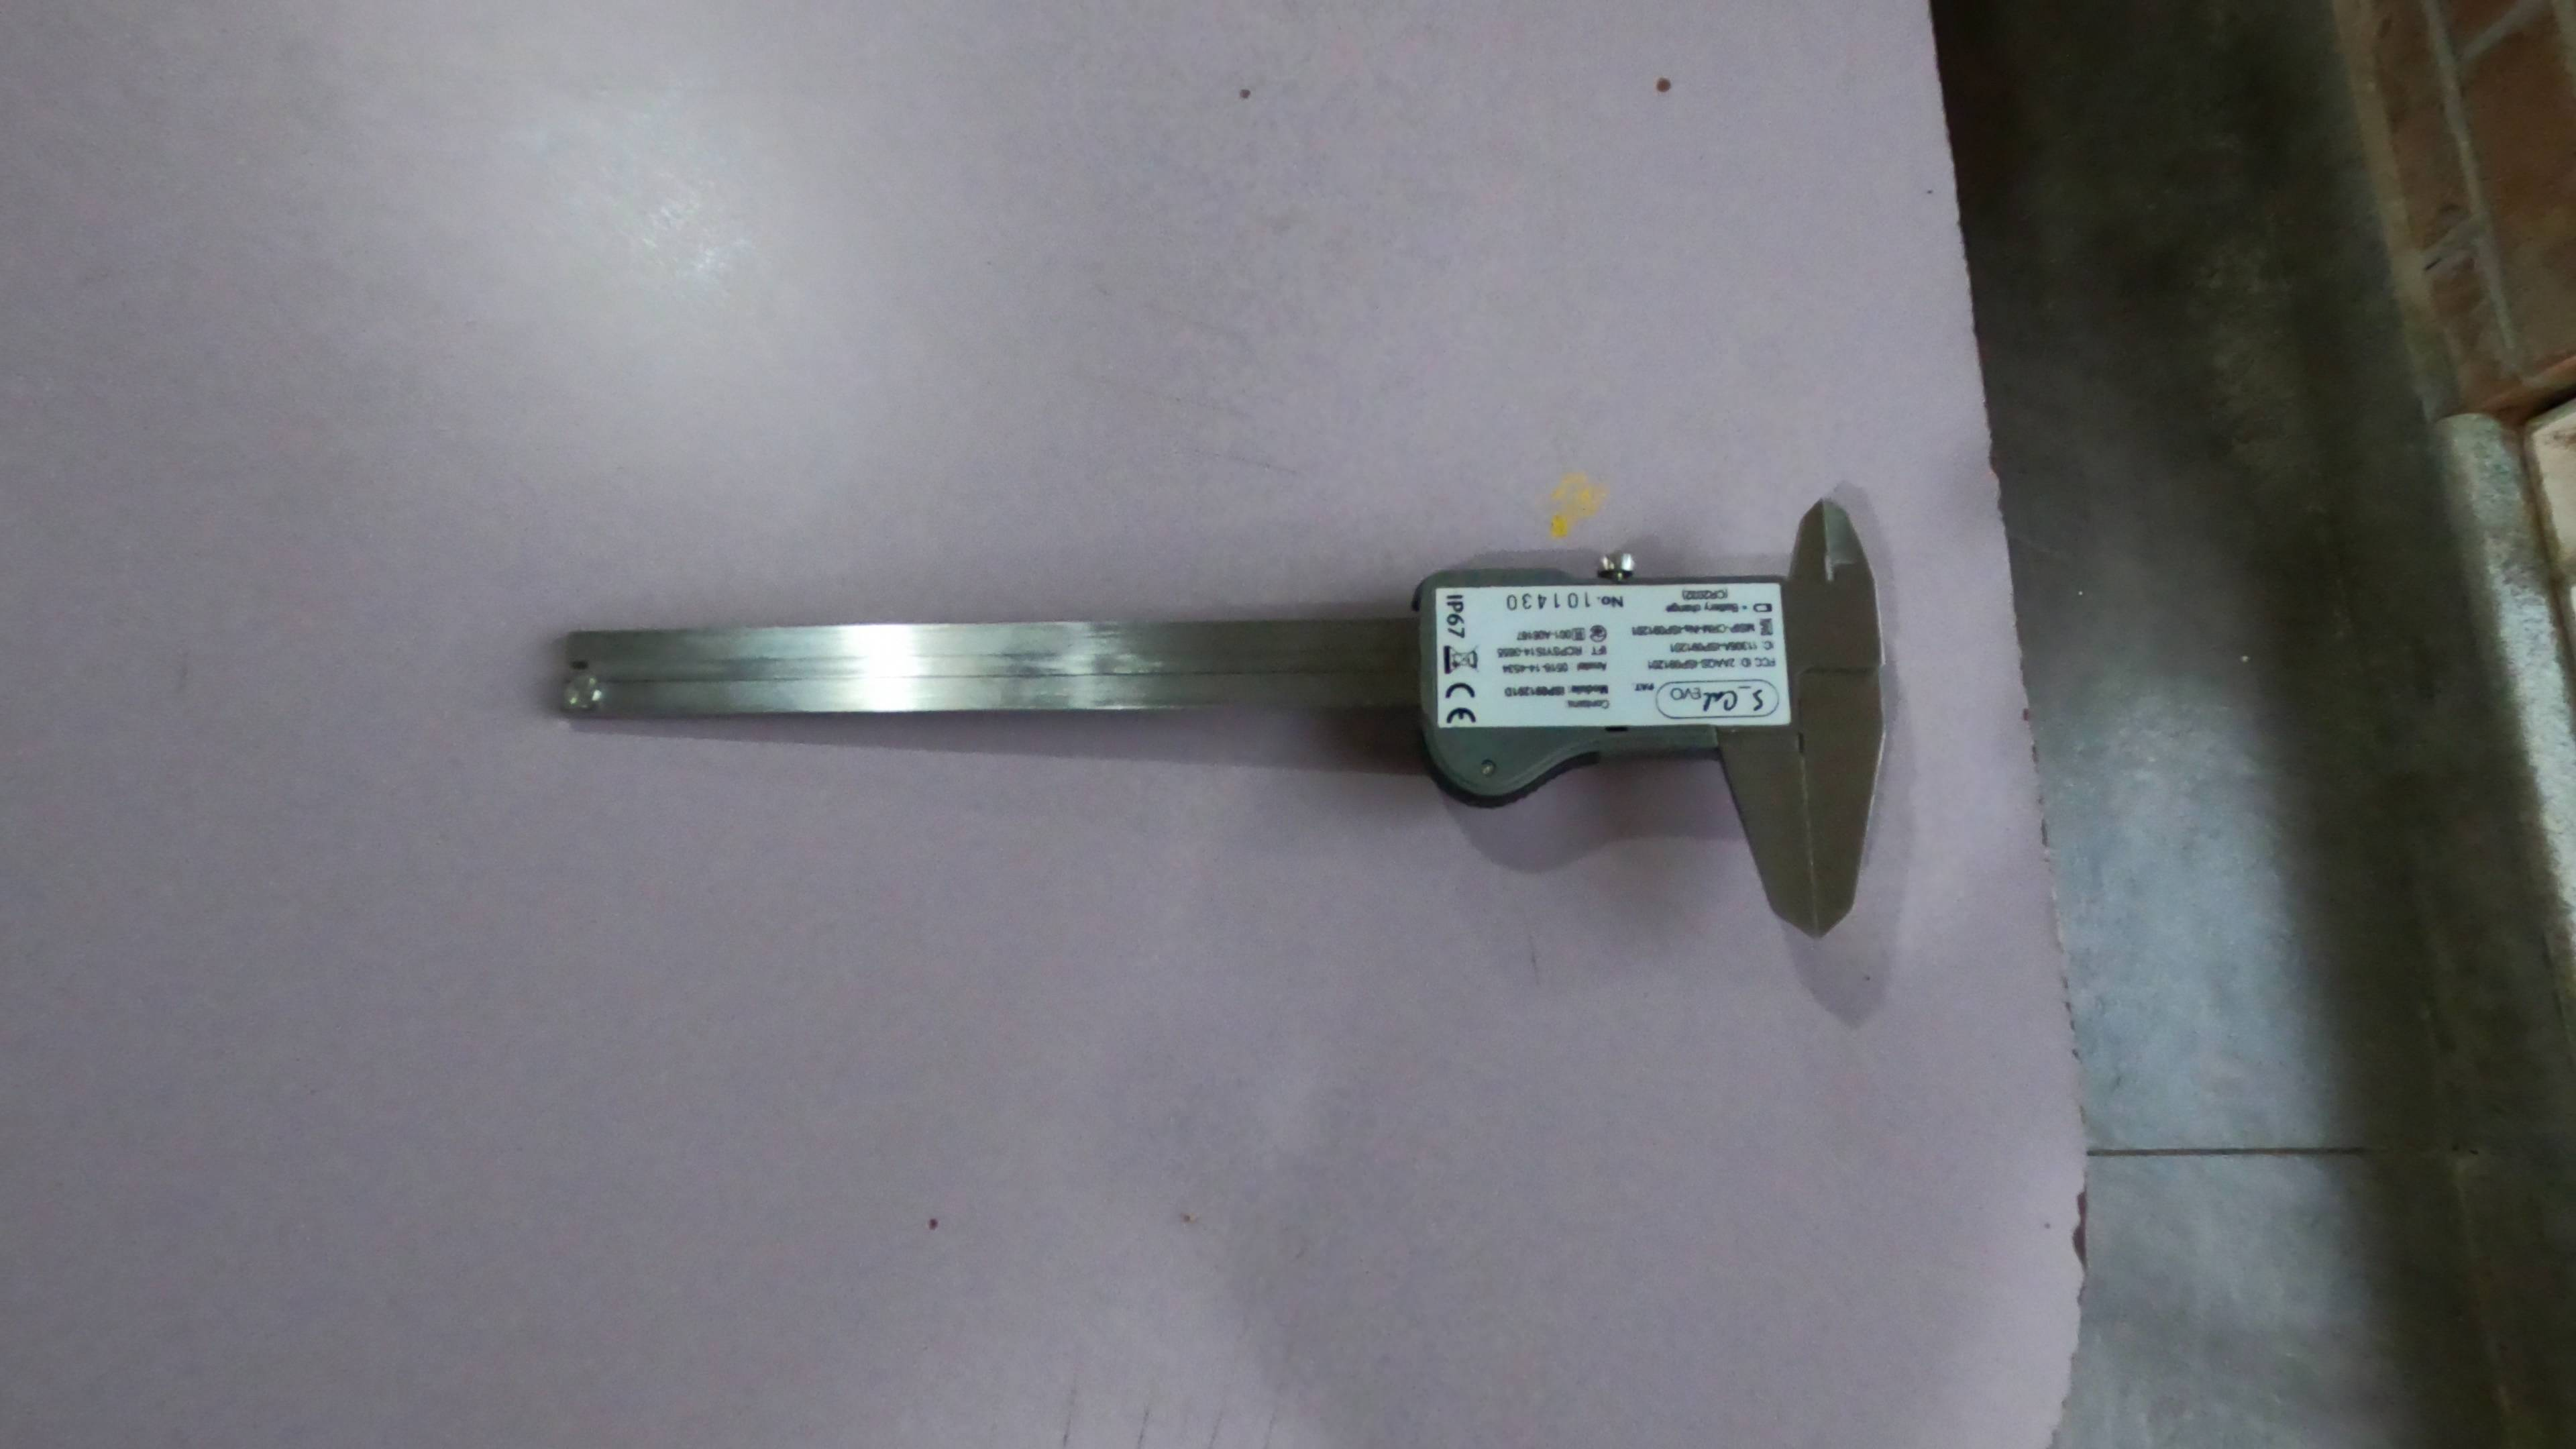vernier_caliper: (550, 492, 1895, 966)
